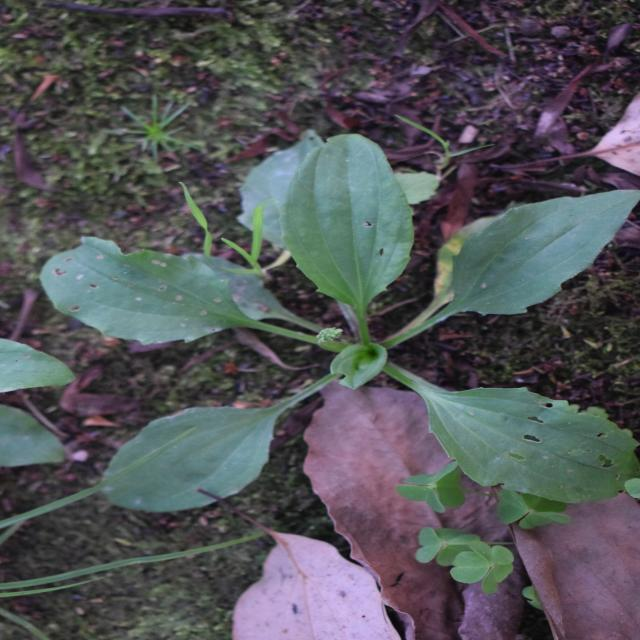plantain: (123, 56, 490, 619)
